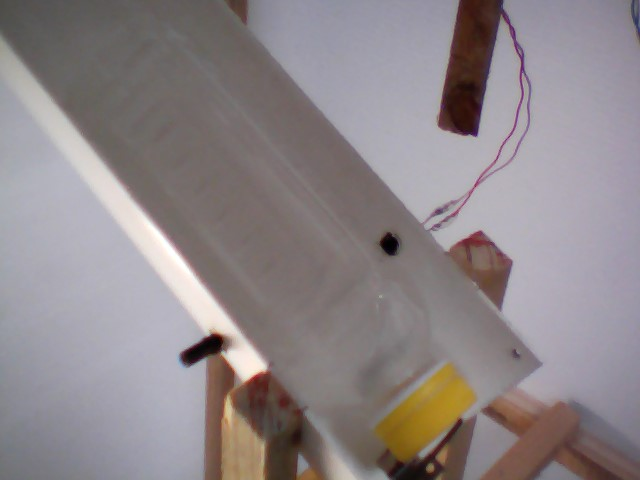plastico: (40, 10, 491, 475)
